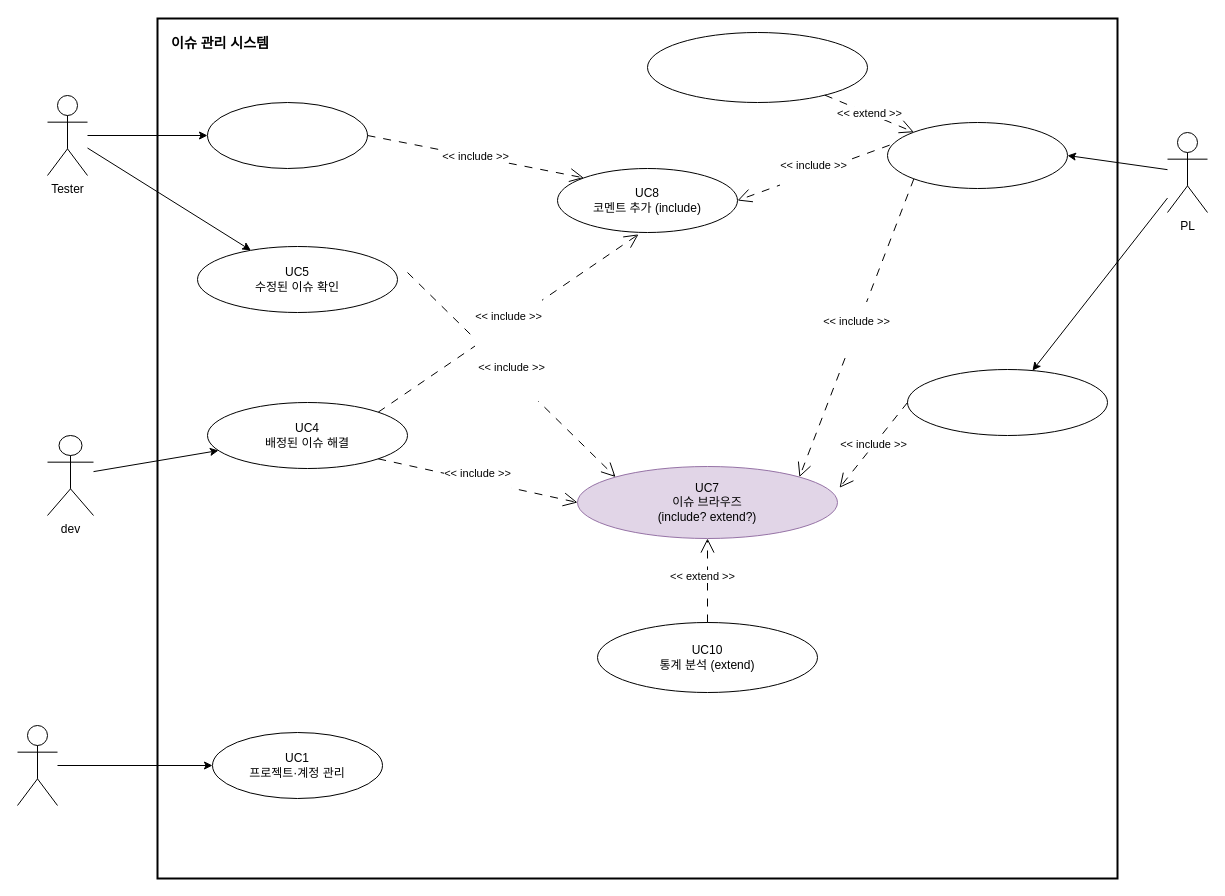
This 1225x896 diagram has some shape labels left out. Each missing label, with the centre of its shape:
"Admin" belongs at point 37,765.
"UC2 이슈 등록" belongs at point 287,135.
"UC3 이슈 배정" belongs at point 977,155.
"UC6 이슈 종료처리" belongs at point 1007,402.
"UC9 담당자 후보 추천 (extend)" belongs at point 757,67.
